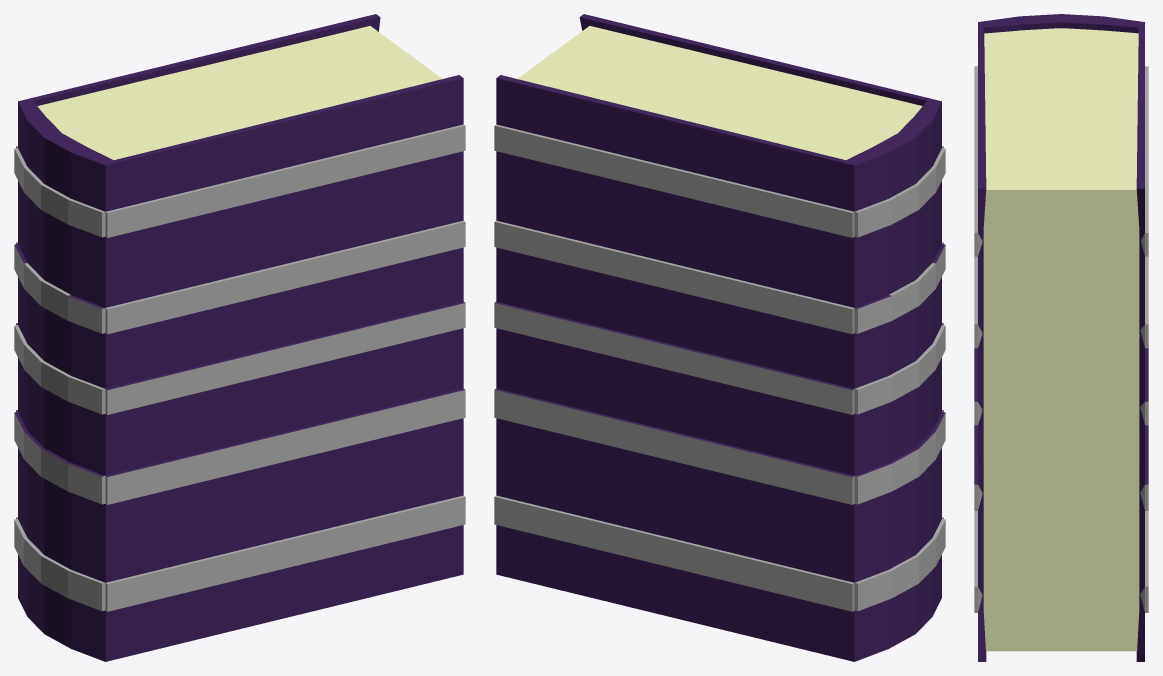
The model's file is Book_03.fbx.
3 renders of one model, left to right at view 1: azimuth 30°, elevation 25°; view 2: azimuth 150°, elevation 25°; view 3: azimuth 270°, elevation 25°, orthographic. The views are drawn at different scales.
Visible parts, largest first — view 1: Book_03; view 2: Book_03; view 3: Book_03.
Boxes of the visible parts, bbox=[...] form: Book_03: bbox=[14, 14, 465, 661]; Book_03: bbox=[494, 14, 945, 661]; Book_03: bbox=[974, 14, 1148, 661].
Bounding box in the file's own units: 868 × 1086 × 362.
